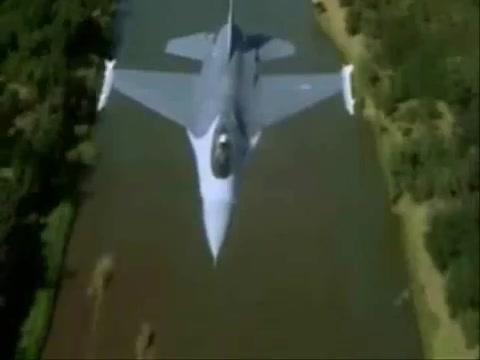aeroplane: (96, 2, 359, 269)
